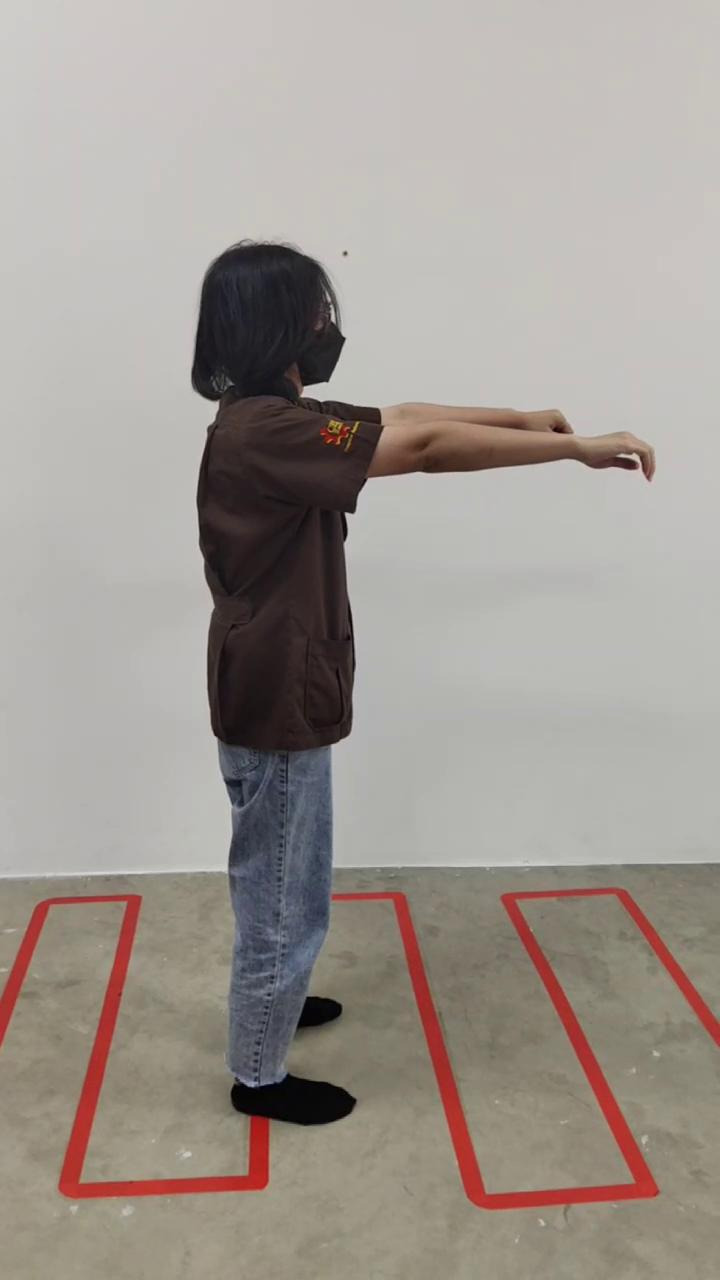squat up: (192, 242, 655, 1128)
